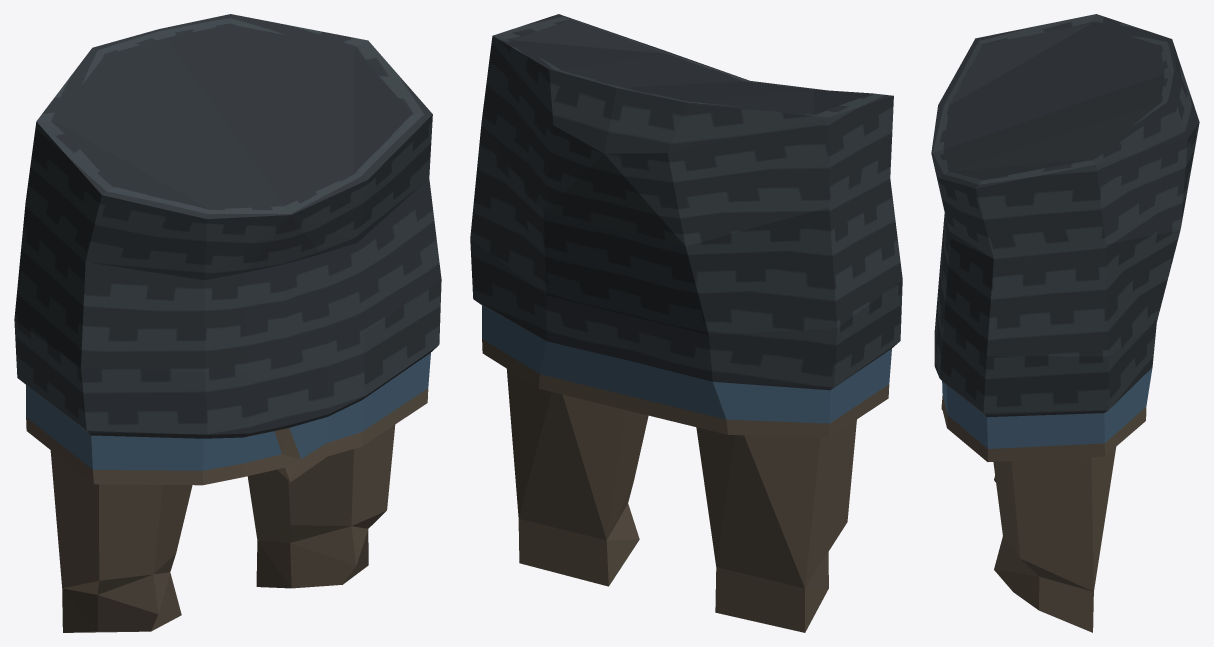
Rendered from Chr_Hips_Female_17_Static.fbx.
3 renders of one model, left to right at view 1: azimuth 30°, elevation 25°; view 2: azimuth 150°, elevation 25°; view 3: azimuth 270°, elevation 25°, orthographic. The views are drawn at different scales.
Parts seen in each view (by area): view 1: Chr_Hips_Female_17_Static; view 2: Chr_Hips_Female_17_Static; view 3: Chr_Hips_Female_17_Static.
Boxes of the visible parts, x1,y1,x2,y2 form: Chr_Hips_Female_17_Static: (14,14,441,632); Chr_Hips_Female_17_Static: (470,14,902,632); Chr_Hips_Female_17_Static: (931,14,1199,632).
Size of the model in its own units: 0.4078 by 0.5783 by 0.2813.
